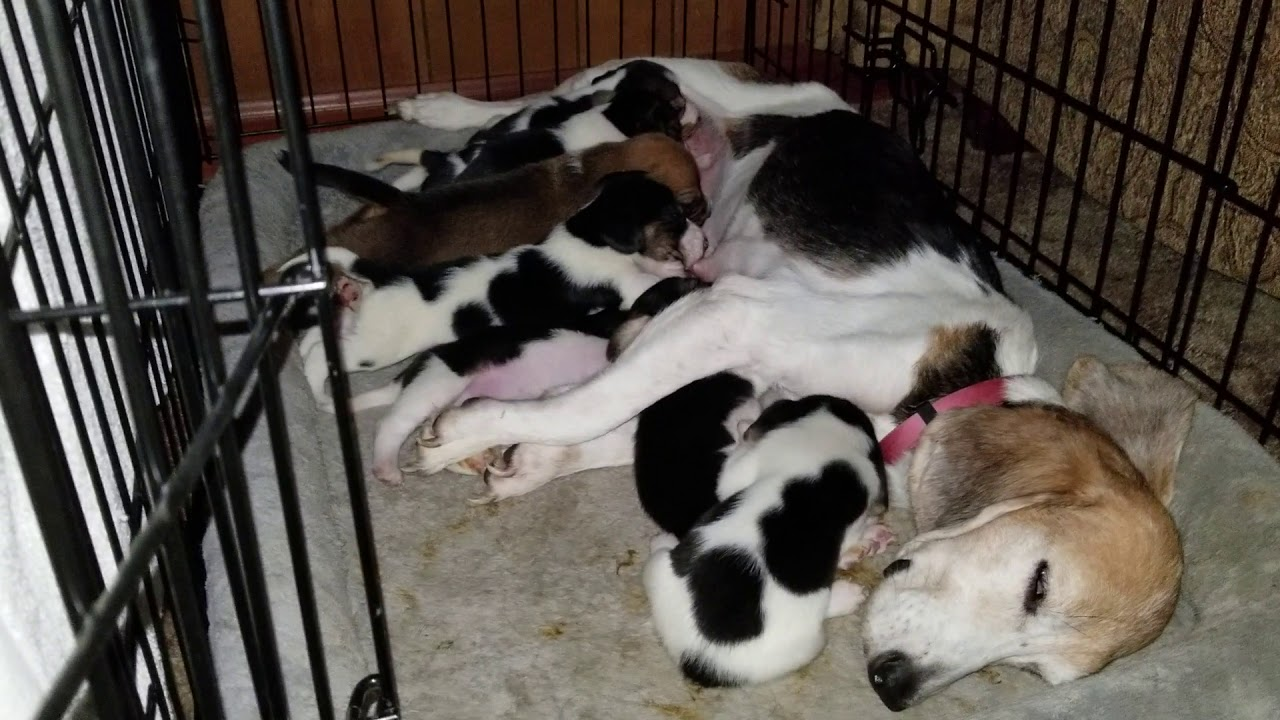dog: (381, 40, 1194, 713), (284, 169, 718, 382), (639, 387, 867, 689), (270, 137, 708, 260)
